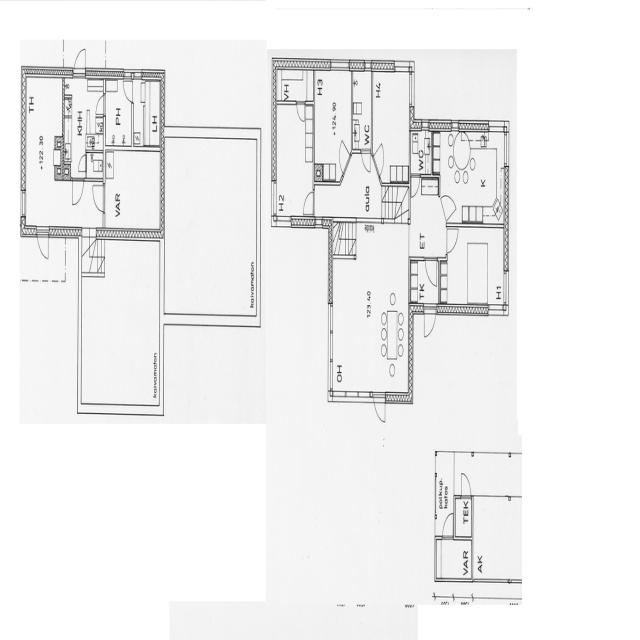door: (414, 256, 440, 300), (36, 222, 50, 262), (424, 254, 439, 288), (91, 180, 106, 213), (372, 392, 387, 424), (302, 185, 316, 218), (372, 138, 384, 176), (72, 46, 86, 77), (446, 222, 460, 252), (72, 174, 85, 206), (424, 304, 436, 338), (444, 193, 458, 220), (442, 509, 454, 538), (338, 139, 350, 168), (460, 471, 472, 498), (80, 230, 91, 259), (94, 93, 106, 117), (295, 96, 306, 122), (361, 147, 372, 173), (76, 151, 88, 174), (410, 172, 421, 197), (123, 77, 134, 102)
window: (326, 302, 336, 394), (343, 386, 373, 401), (503, 265, 511, 313), (503, 122, 511, 170), (19, 186, 27, 220), (271, 176, 277, 220), (486, 304, 504, 318), (331, 57, 348, 71), (408, 71, 414, 108), (393, 59, 410, 72), (276, 216, 293, 227), (85, 69, 100, 81), (450, 120, 460, 132)
zone: (331, 223, 405, 394), (288, 89, 346, 210), (24, 70, 66, 228), (438, 127, 506, 221), (443, 222, 507, 313), (104, 145, 164, 235), (274, 100, 314, 220), (350, 67, 399, 164), (312, 68, 352, 181), (372, 68, 411, 180), (65, 72, 102, 185), (472, 495, 519, 579), (410, 178, 446, 258), (133, 76, 162, 147), (104, 76, 132, 148), (435, 534, 472, 581), (352, 67, 372, 150), (410, 257, 440, 306), (87, 99, 105, 169), (278, 68, 312, 102), (410, 122, 432, 174), (454, 496, 472, 536)
